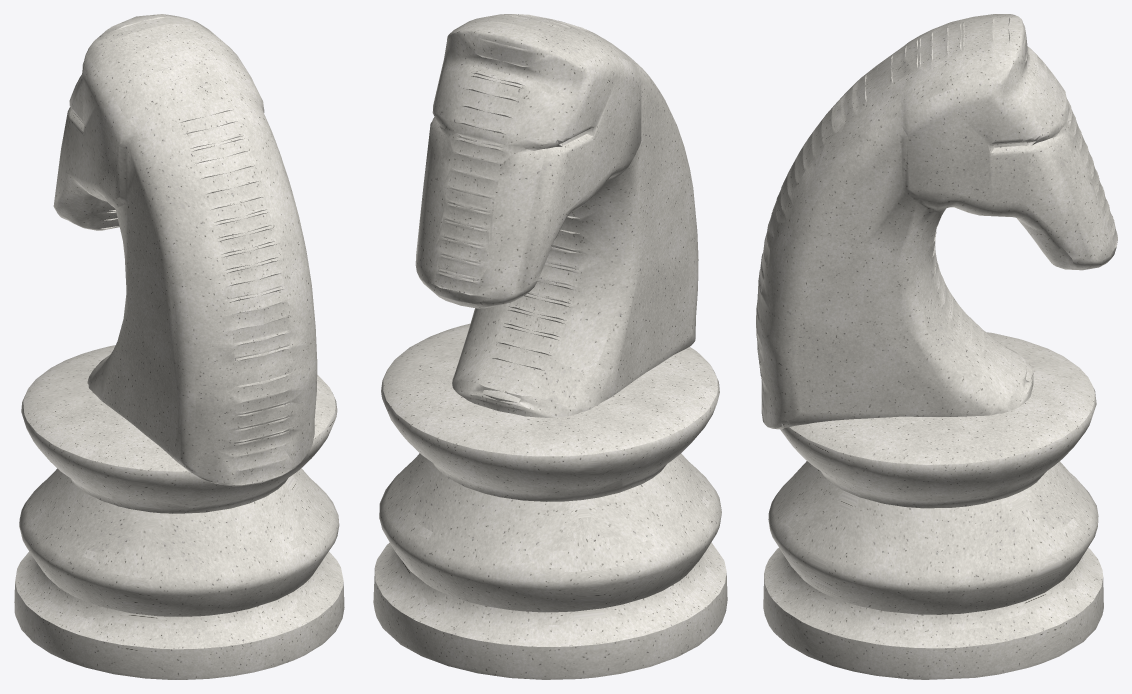
Rendered from knight-white.glb.
3 views of the same model, side by side, from view 1: azimuth 30°, elevation 25°; view 2: azimuth 150°, elevation 25°; view 3: azimuth 270°, elevation 25° (orthographic). The views are drawn at different scales.
Parts seen in each view (by area): view 1: jezdec_bila; view 2: jezdec_bila; view 3: jezdec_bila.
Part boxes in pixels (x1,y1,x2,y2): jezdec_bila: (14, 14, 344, 679); jezdec_bila: (373, 14, 727, 679); jezdec_bila: (756, 14, 1117, 679).
Size of the model in its own units: 0.6004 by 1.15 by 0.6376.
1 material, 1 textured.
